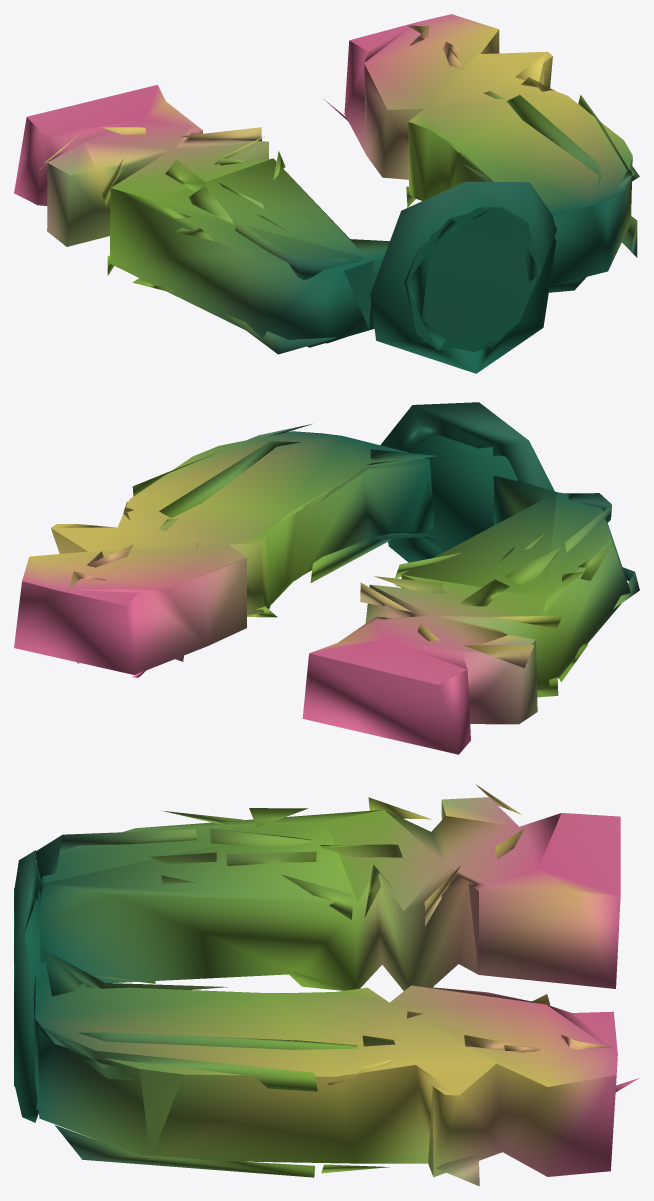
Rendered from mesh_lod_3_e62aacea-18f0-56c2-86c5-de7b3e8ff5c5.glb.
The picture shows the model from 3 angles, top to bottom: view 1: azimuth 30°, elevation 25°; view 2: azimuth 150°, elevation 25°; view 3: azimuth 270°, elevation 25°; orthographic projection. The views are drawn at different scales.
Parts seen in each view (by area): view 1: LOD 3_e62aacea-18f0-56c2-86c5-de7b3e8ff5c5; view 2: LOD 3_e62aacea-18f0-56c2-86c5-de7b3e8ff5c5; view 3: LOD 3_e62aacea-18f0-56c2-86c5-de7b3e8ff5c5.
Part boxes in pixels (<box>): LOD 3_e62aacea-18f0-56c2-86c5-de7b3e8ff5c5: <box>14,14,639,373</box>; LOD 3_e62aacea-18f0-56c2-86c5-de7b3e8ff5c5: <box>14,402,639,754</box>; LOD 3_e62aacea-18f0-56c2-86c5-de7b3e8ff5c5: <box>14,784,639,1186</box>.
Bounding box in the file's own units: 14.39 × 5.58 × 12.55.
